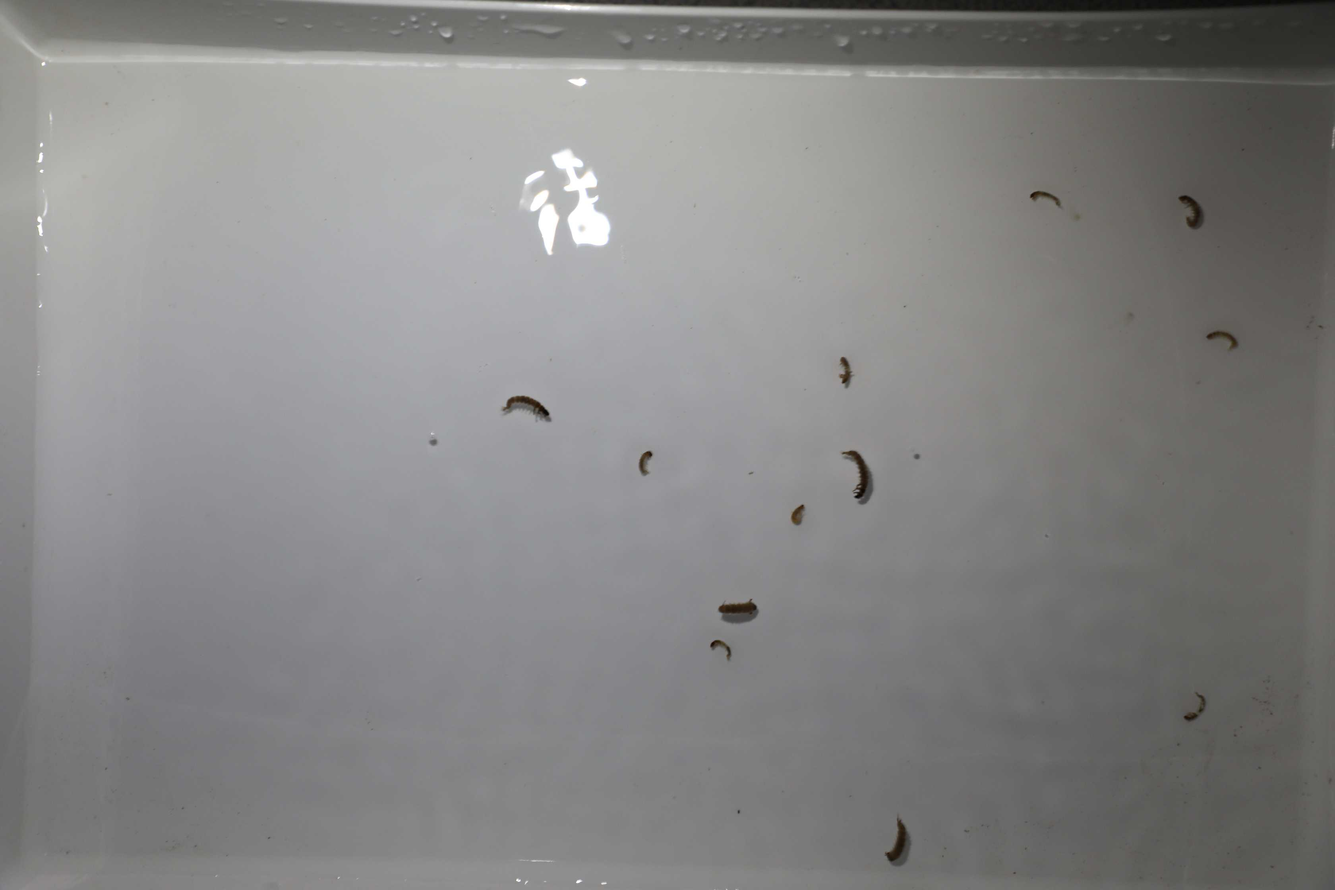Cadisfly: (504, 386, 552, 429), (840, 447, 873, 505), (880, 812, 910, 872), (1205, 319, 1247, 352), (1169, 192, 1205, 230), (1181, 692, 1214, 728), (715, 598, 761, 623), (1025, 187, 1062, 215), (836, 352, 859, 393), (707, 636, 735, 660), (637, 444, 657, 477), (788, 500, 811, 528)
